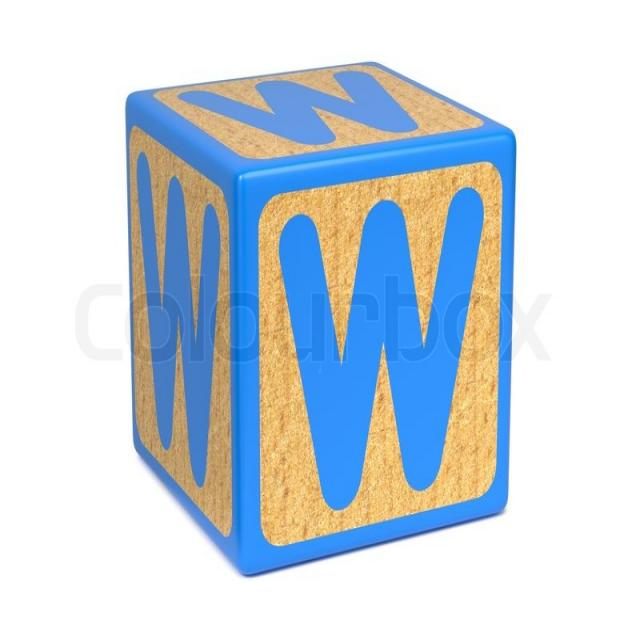W: (274, 176, 486, 533)
